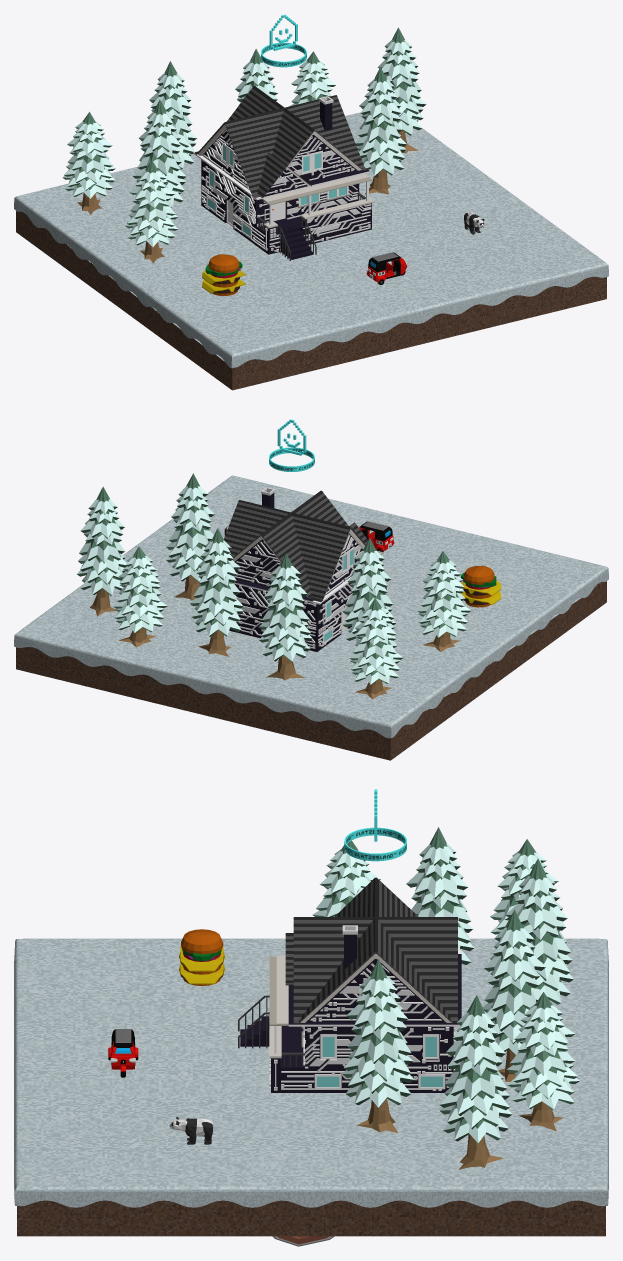
The picture shows the model from 3 angles, top to bottom: view 1: azimuth 30°, elevation 25°; view 2: azimuth 150°, elevation 25°; view 3: azimuth 270°, elevation 25°; orthographic projection. The views are drawn at different scales.
Visible parts, largest first — view 1: Cube.003, Cube.918, OBJRANDOM_HAMBURGER, TYPE_PREMIUM, VEHICLES_TUC_TUC; view 2: Cube.003, Cube.918, OBJRANDOM_HAMBURGER, TYPE_PREMIUM, VEHICLES_TUC_TUC; view 3: Cube.003, Cube.918, OBJRANDOM_HAMBURGER, TYPE_PREMIUM, VEHICLES_TUC_TUC, ANIMAL_PANDA.
Part boxes in pixels (x1,y1,x2,y2): Cube.003: (14, 27, 608, 390); Cube.918: (193, 86, 374, 260); OBJRANDOM_HAMBURGER: (202, 254, 245, 295); TYPE_PREMIUM: (261, 14, 306, 67); VEHICLES_TUC_TUC: (366, 252, 407, 284); Cube.003: (14, 473, 608, 760); Cube.918: (224, 487, 386, 651); OBJRANDOM_HAMBURGER: (461, 565, 501, 607); TYPE_PREMIUM: (269, 419, 314, 471); VEHICLES_TUC_TUC: (359, 521, 394, 551); Cube.003: (14, 827, 608, 1236); Cube.918: (238, 877, 461, 1092); OBJRANDOM_HAMBURGER: (179, 929, 225, 985); TYPE_PREMIUM: (344, 789, 406, 861); VEHICLES_TUC_TUC: (108, 1029, 138, 1077); ANIMAL_PANDA: (169, 1117, 213, 1144).
Size of the model in its own units: 4040 by 3184 by 4040.
Materials: 42 (4 with a texture image).
